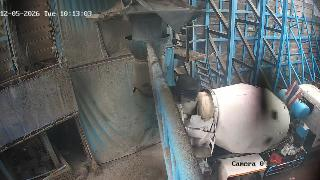cement_mixer_truck: (170, 83, 320, 180)
swing_chute: (125, 34, 171, 98)
